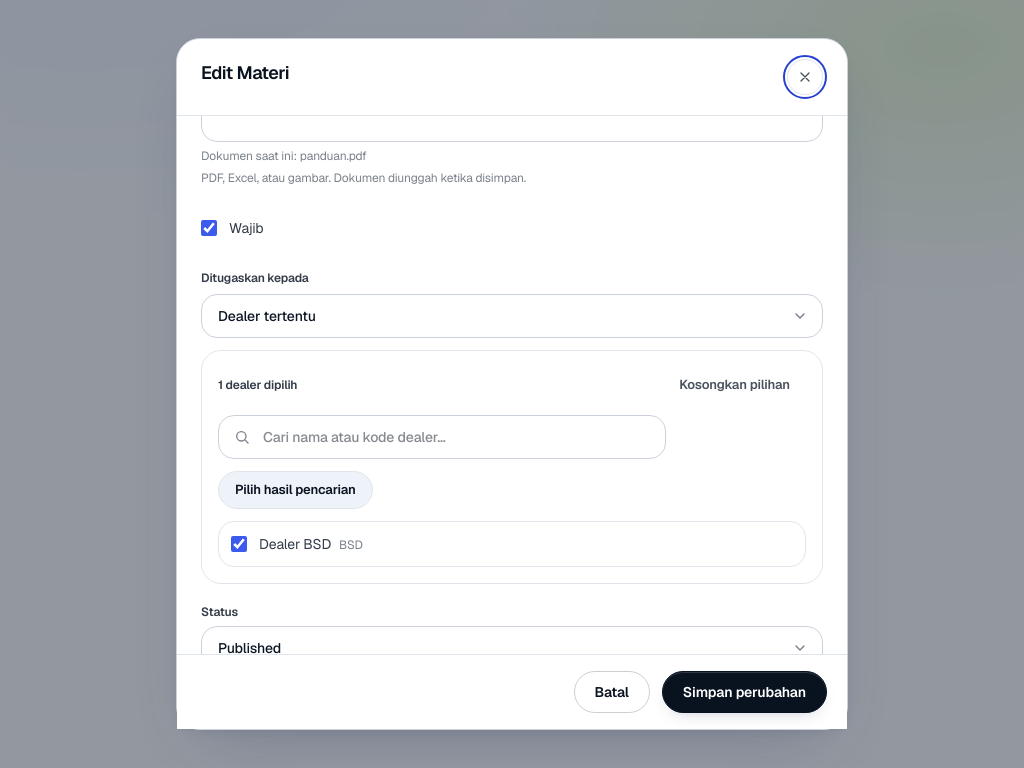
Training editors › rejects empty assignees before sending a mutation
(page scrolled)
Click the button "Kosongkan pilihan" at (735, 385), box [663,367,806,403]
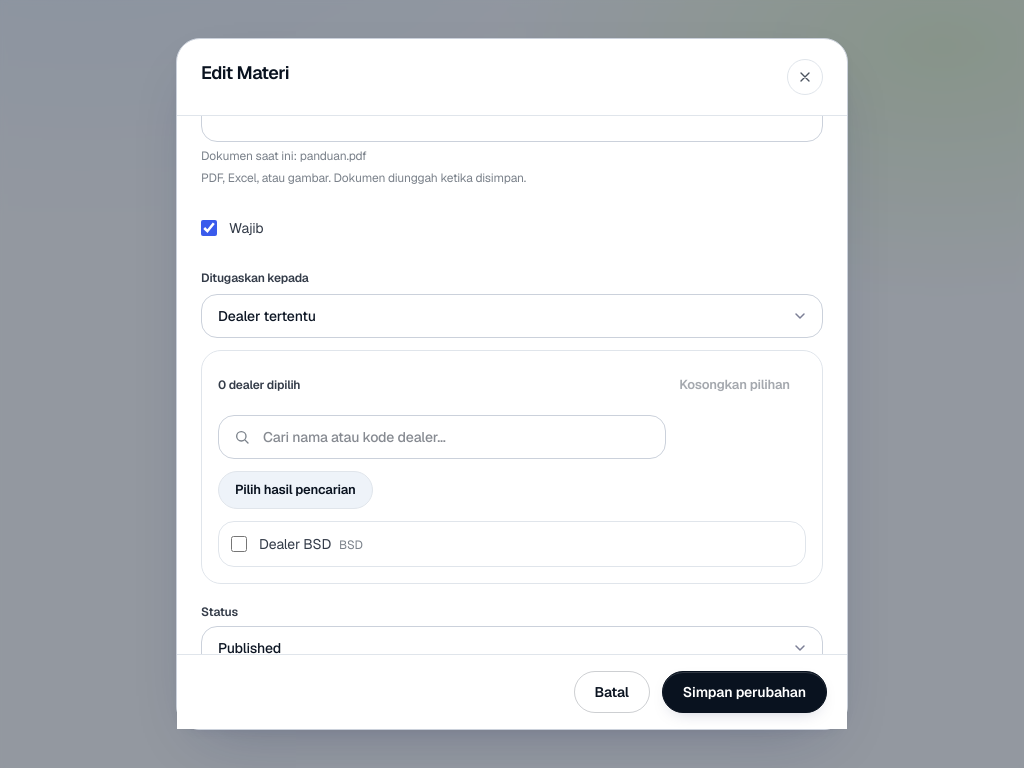
Click the button "Simpan perubahan" at (744, 692), box [662,671,827,713]
(page scrolled)
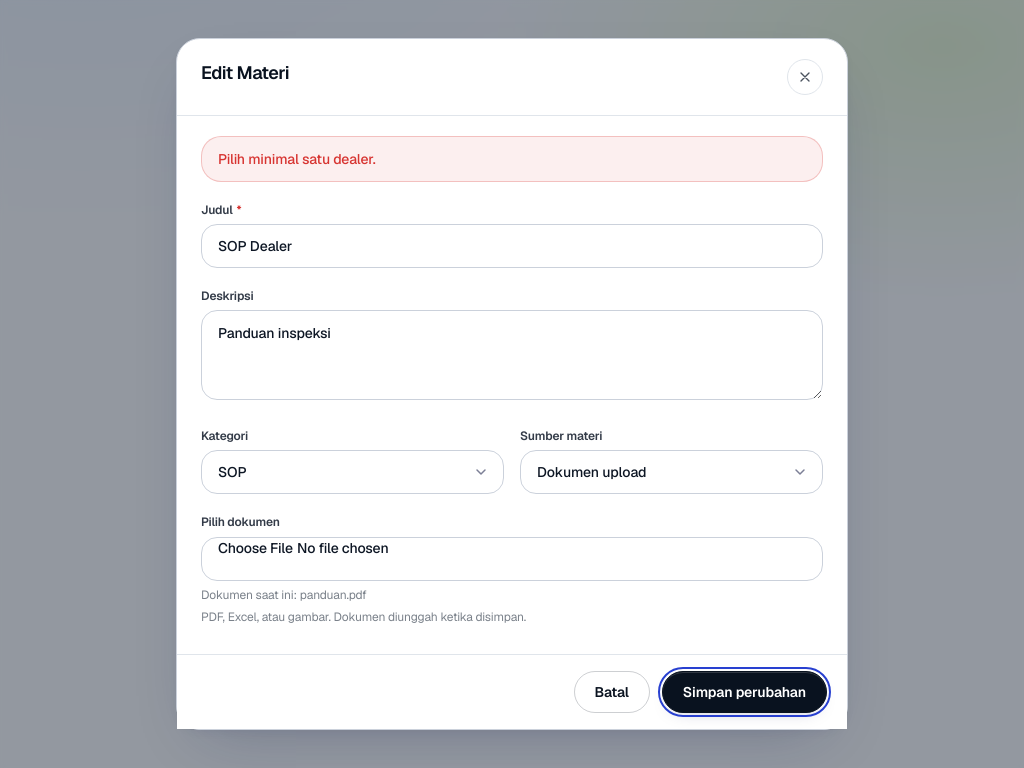
Expected: the text "Pilih minimal satu dealer." is shown, [218,149,376,169]
